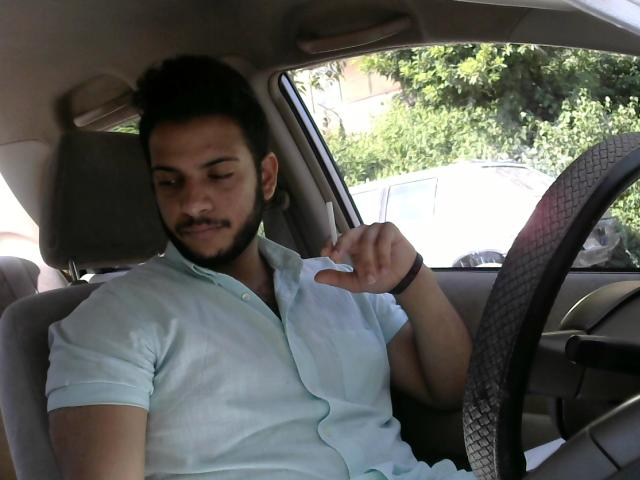Smoking: (323, 198, 345, 270)
